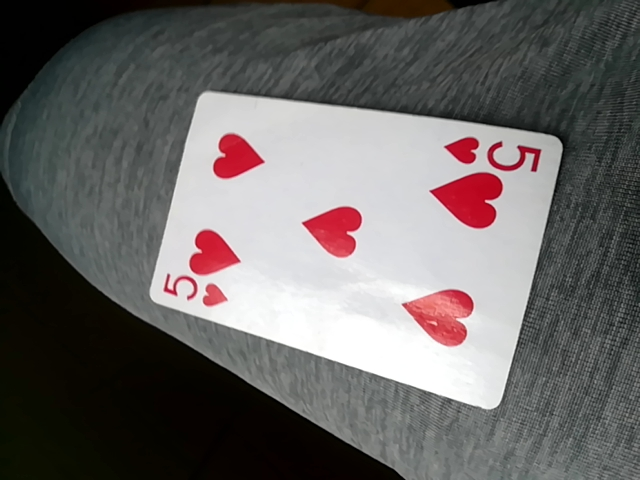hx 5: (147, 89, 567, 411)
